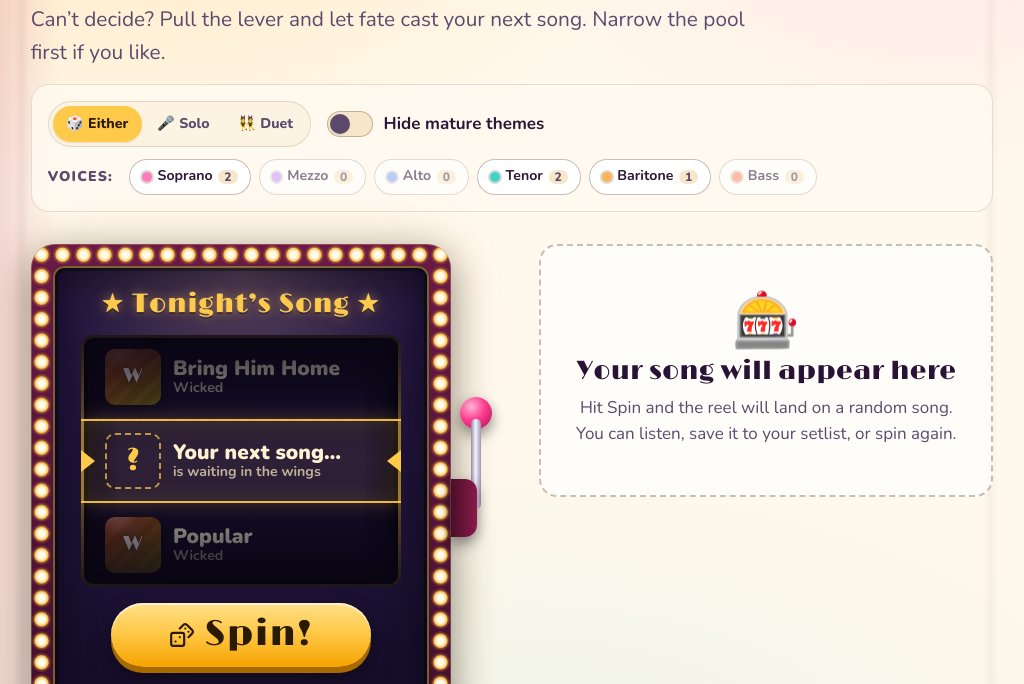
SpinPage › shows the pool size and narrows it with filters (kept in the URL)
The image size is (1024, 684).
Click the radio button with test id "spin-kind-solo" at x=183, y=124, box left=144, top=106, right=223, bottom=142
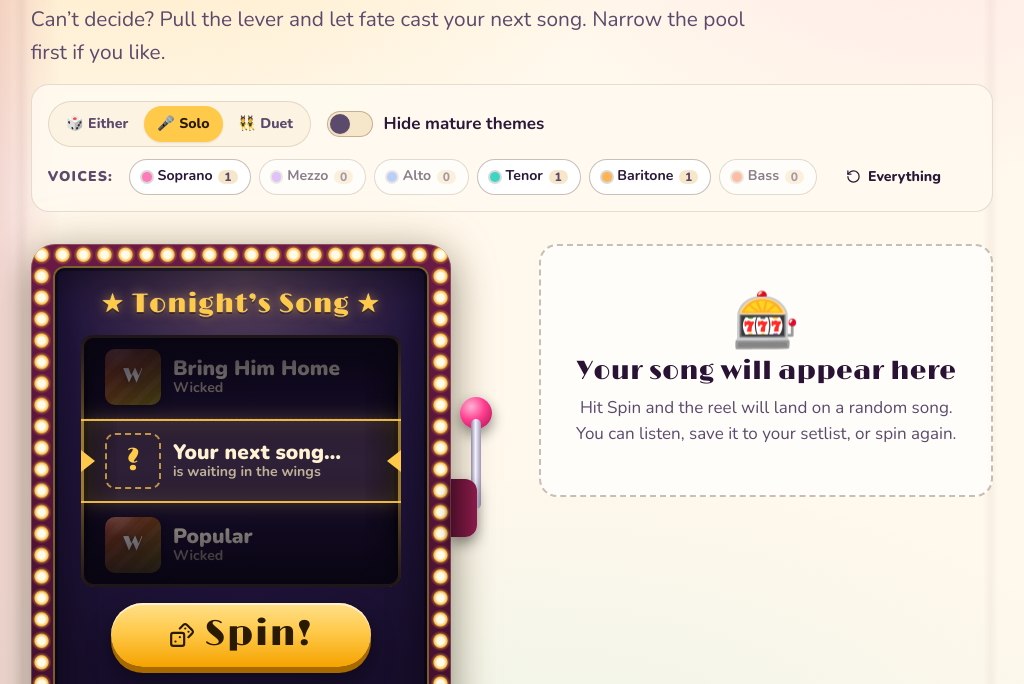
Click the switch with test id "spin-hide-mature" at x=436, y=124, box left=327, top=111, right=544, bottom=137
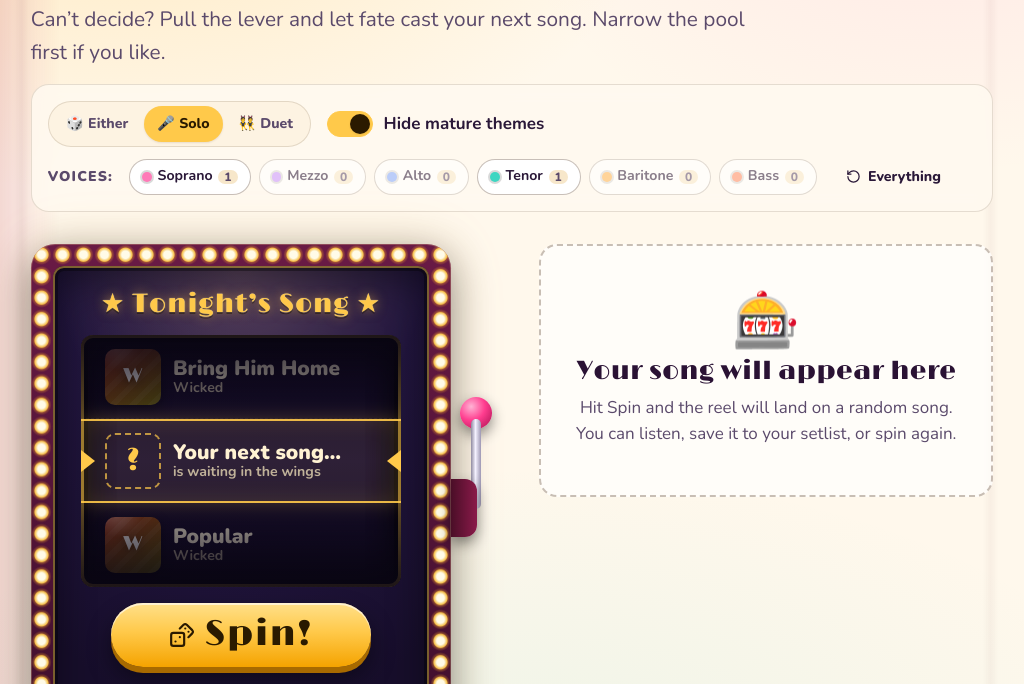
Click the button with test id "spin-range-Tenor" at x=529, y=177, box left=477, top=159, right=581, bottom=195
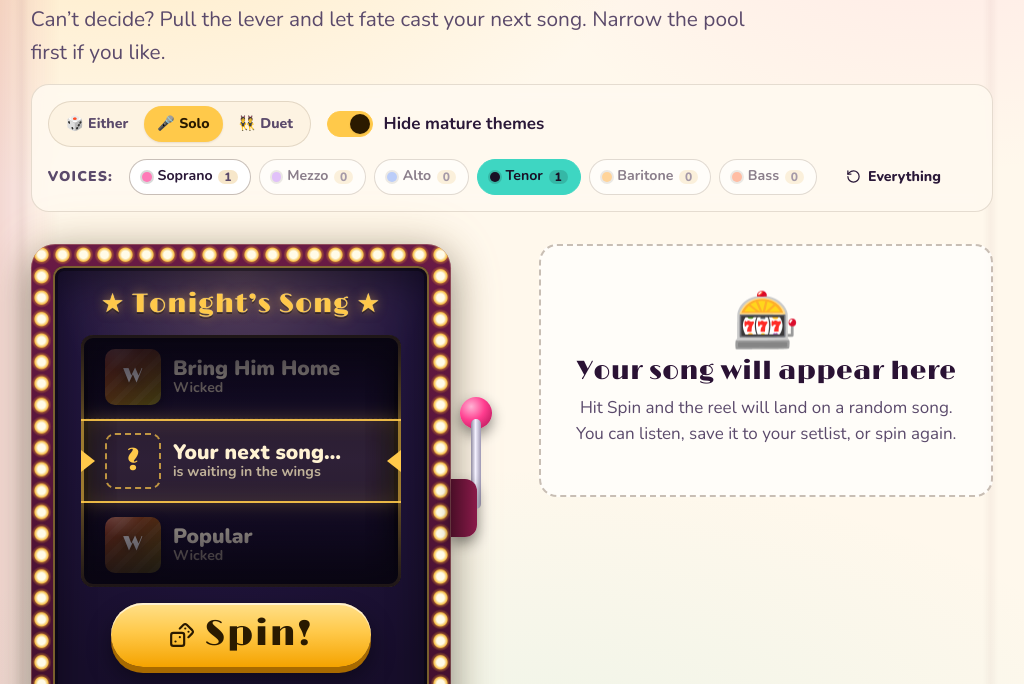
Click the button with test id "spin-clear" at x=893, y=177, box left=833, top=160, right=954, bottom=194
(page scrolled)
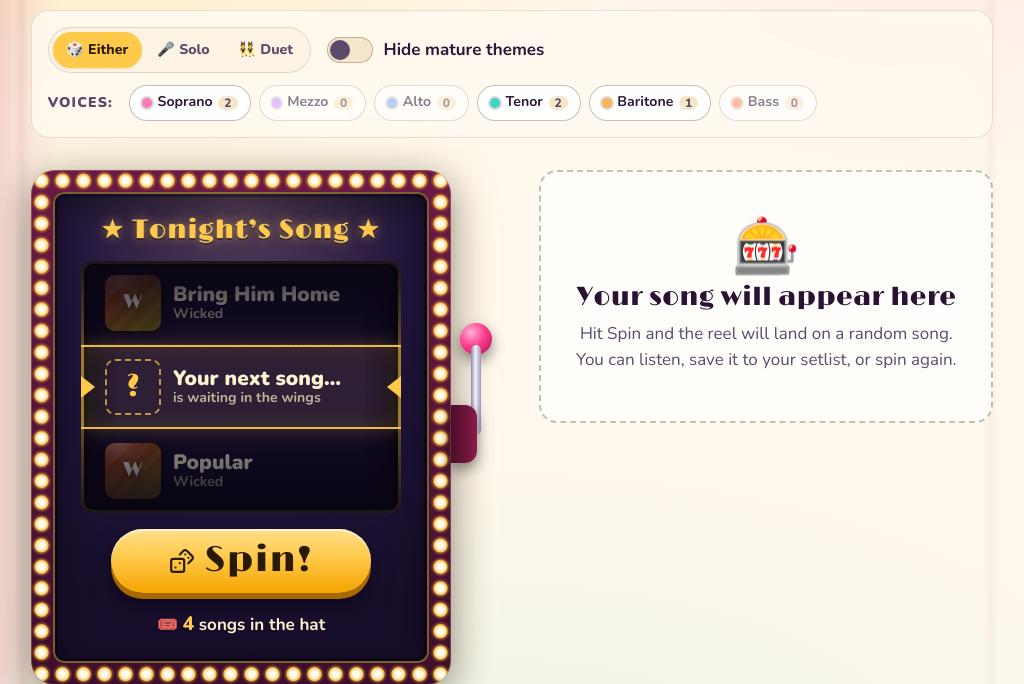
expect the element with test id "spin-pool-size" shows "4 songs in the hat": met, box left=157, top=609, right=325, bottom=639
